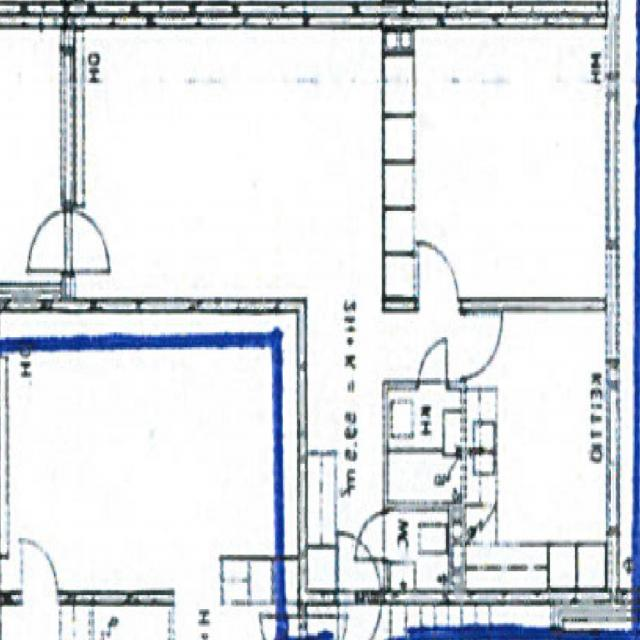door: (20, 210, 76, 272), (61, 210, 117, 272), (338, 526, 380, 605), (419, 238, 458, 313), (460, 316, 506, 377), (352, 513, 389, 560), (418, 335, 448, 391)
